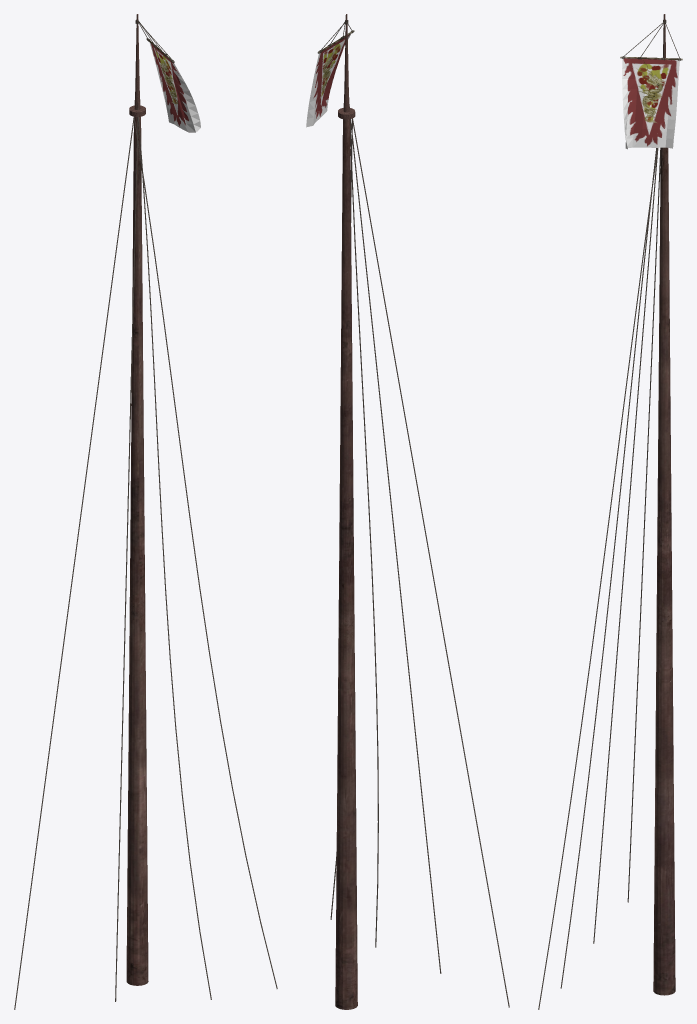
3 renders of one model, left to right at view 1: azimuth 30°, elevation 25°; view 2: azimuth 150°, elevation 25°; view 3: azimuth 270°, elevation 25°, orthographic. The views are drawn at different scales.
Parts seen in each view (by area): view 1: qingmo_obj_267 [10484627]; view 2: qingmo_obj_267 [10484627]; view 3: qingmo_obj_267 [10484627].
Part boxes in pixels (left/top/right/bottom): qingmo_obj_267 [10484627]: left=14, top=14, right=277, bottom=1009; qingmo_obj_267 [10484627]: left=306, top=14, right=509, bottom=1009; qingmo_obj_267 [10484627]: left=538, top=14, right=682, bottom=1009.
Bounding box in the file's own units: 24.72 × 13.99 × 104.
6 materials, 4 textured.
